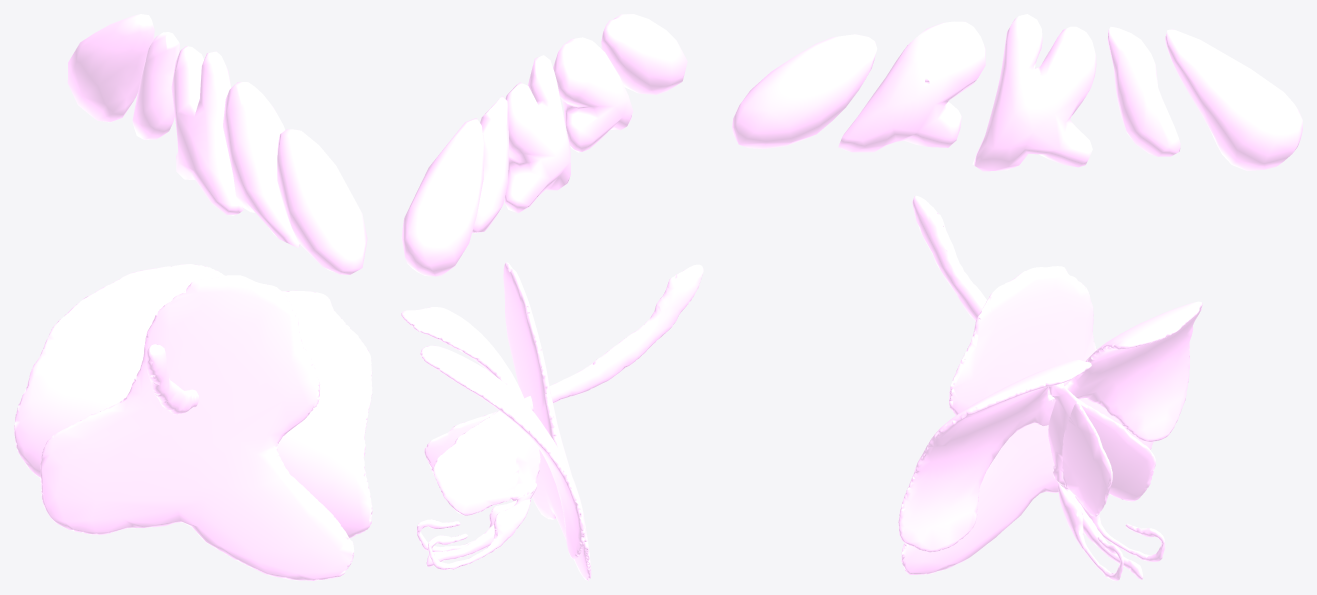
The model's file is orchid3.glb.
3 views of the same model, side by side, from view 1: azimuth 30°, elevation 25°; view 2: azimuth 150°, elevation 25°; view 3: azimuth 270°, elevation 25° (orthographic). The views are drawn at different scales.
Parts seen in each view (by area): view 1: mm_frame, mm_frame (5); view 2: mm_frame, mm_frame (5); view 3: mm_frame, mm_frame (5).
Boxes of the visible parts, box(x1,y1,x2,y2) form: mm_frame: box(14, 264, 372, 580); mm_frame (5): box(67, 14, 367, 274); mm_frame: box(401, 262, 703, 580); mm_frame (5): box(401, 14, 687, 276); mm_frame: box(898, 195, 1202, 580); mm_frame (5): box(732, 14, 1302, 171).
Size of the model in its own units: 4.34 by 8.32 by 8.09.
